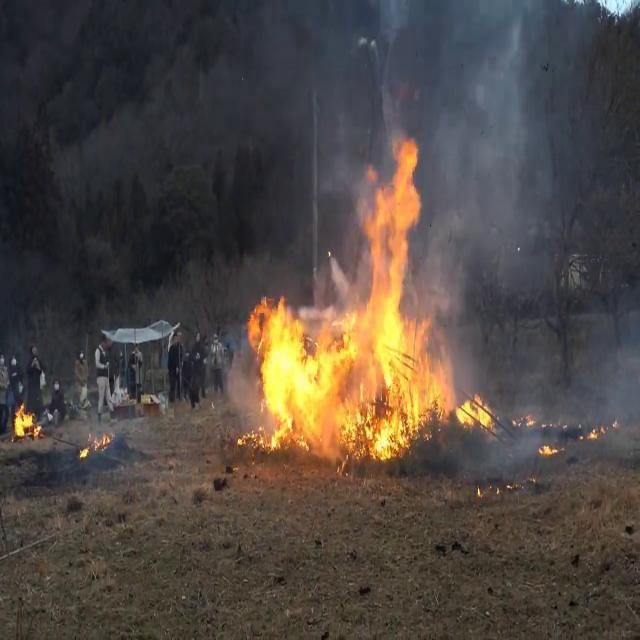Fire: (238, 128, 496, 462), (76, 428, 116, 464), (13, 398, 42, 440), (584, 417, 612, 443), (535, 436, 561, 458)
Smoke: (397, 1, 616, 357)
